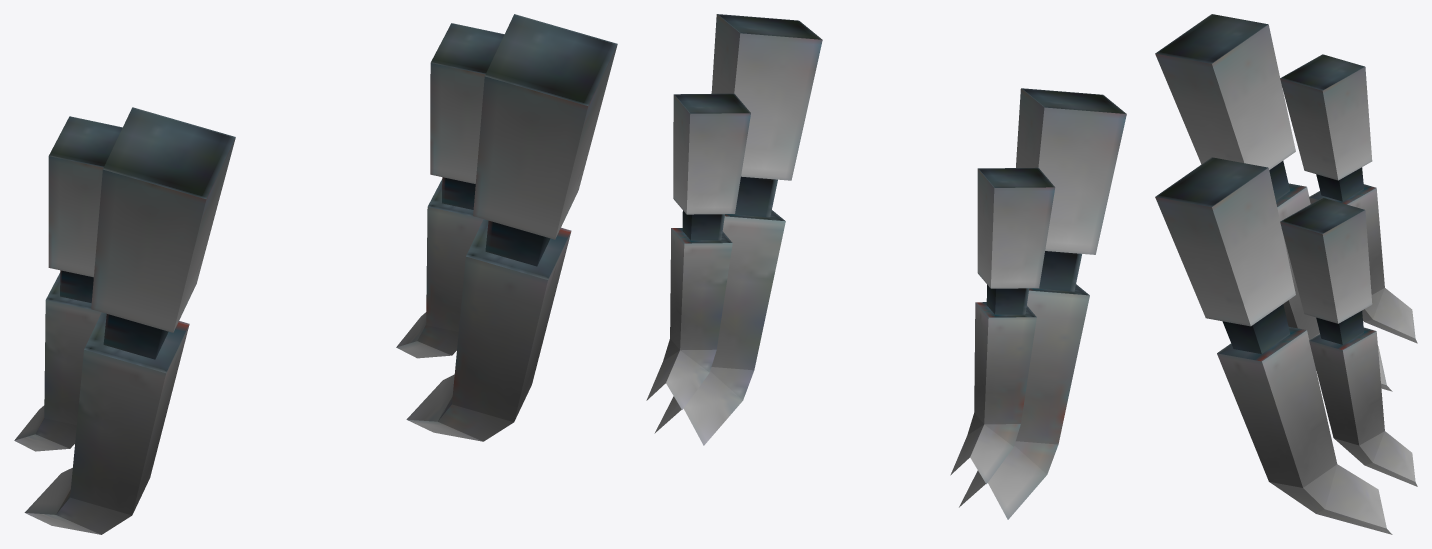
The model's file is Kart 4 Thruster.glb.
3 views of the same model, side by side, from view 1: azimuth 30°, elevation 25°; view 2: azimuth 150°, elevation 25°; view 3: azimuth 270°, elevation 25° (orthographic). The views are drawn at different scales.
Parts seen in each view (by area): view 1: thrusters; view 2: thrusters; view 3: thrusters.
Boxes of the visible parts, <box> form: thrusters: <box>14,14,617,534</box>; thrusters: <box>646,14,1126,519</box>; thrusters: <box>1155,14,1417,534</box>.
Size of the model in its own units: 1.36 by 1.2 by 0.7813.
1 material, 1 textured.
